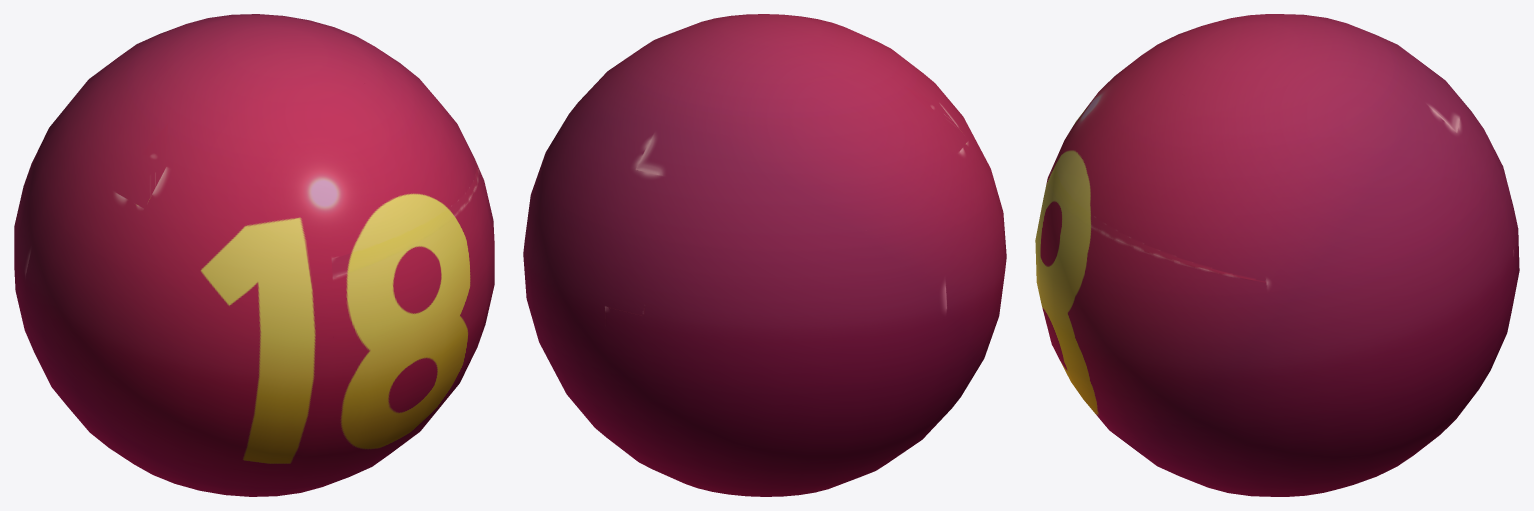
File: Enemy 18.fbx
3 views of the same model, side by side, from view 1: azimuth 30°, elevation 25°; view 2: azimuth 150°, elevation 25°; view 3: azimuth 270°, elevation 25° (orthographic).
Visible parts, largest first — view 1: Body 1.017; view 2: Body 1.017; view 3: Body 1.017.
Boxes of the visible parts, x1,y1,x2,y2 form: Body 1.017: (14,14,494,496); Body 1.017: (523,14,1006,496); Body 1.017: (1035,14,1519,496).
Size of the model in its own units: 474 by 474 by 474.
1 material, 1 textured.
